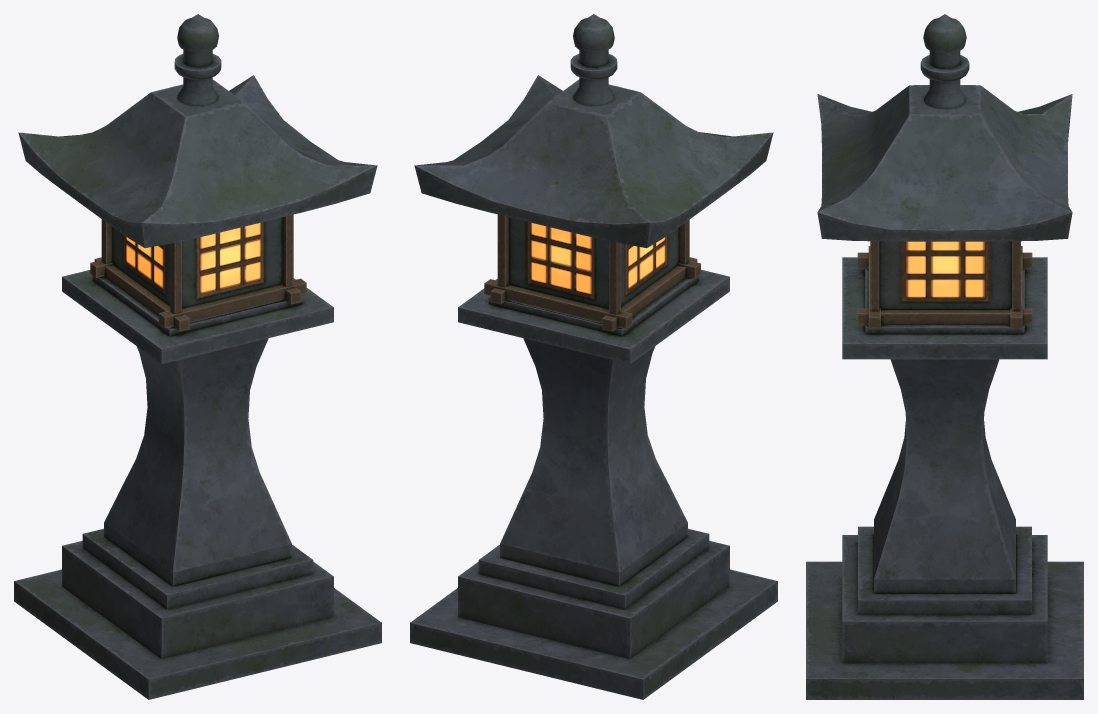
The model's file is japanese_street_lamp.glb.
The picture shows the model from 3 angles, left to right: view 1: azimuth 30°, elevation 25°; view 2: azimuth 150°, elevation 25°; view 3: azimuth 270°, elevation 25°; orthographic projection. The views are drawn at different scales.
Visible parts, largest first — view 1: SM_StreetLight; view 2: SM_StreetLight; view 3: SM_StreetLight.
Boxes of the visible parts, <box> form: SM_StreetLight: <box>14,14,381,699</box>; SM_StreetLight: <box>410,14,777,699</box>; SM_StreetLight: <box>806,14,1083,699</box>.
Size of the model in its own units: 0.511 by 1.26 by 0.5061.
Materials: 1 (1 with a texture image).
